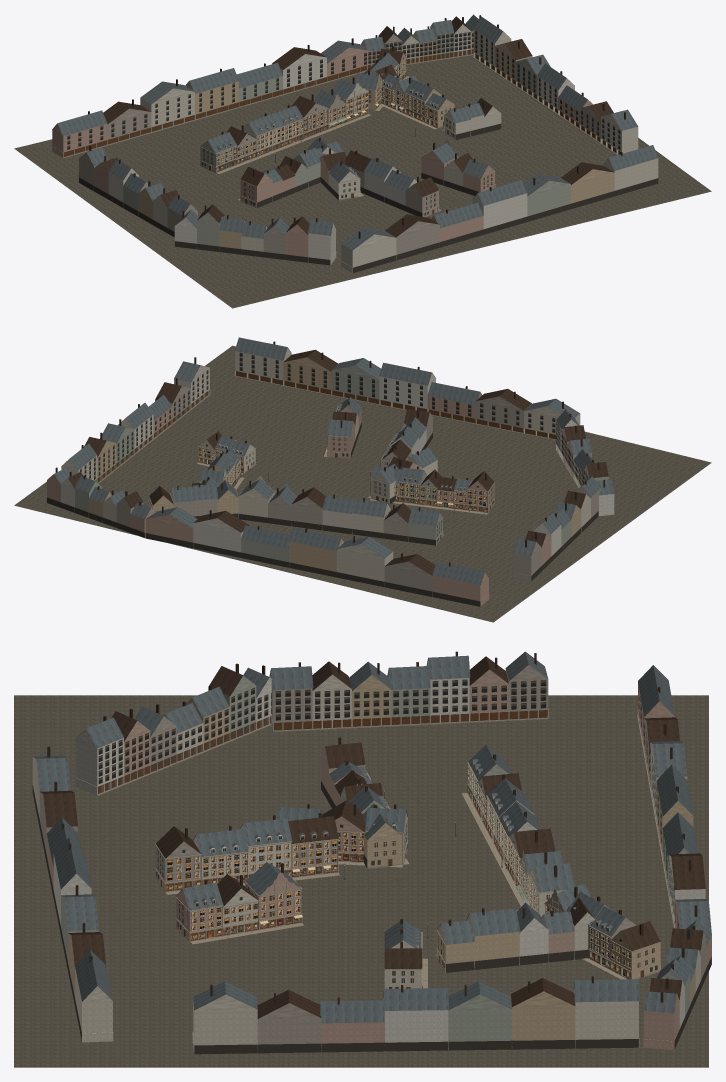
Rendered from platzring.glb.
3 renders of one model, top to bottom at view 1: azimuth 30°, elevation 25°; view 2: azimuth 150°, elevation 25°; view 3: azimuth 270°, elevation 25°, orthographic. The views are drawn at different scales.
Parts seen in each view (by area): view 1: Platzgrund • Pflaster, Sichtkulisse Süd, Sichtkulisse Nord, Sichtkulisse Ost, Sichtkulisse Südwest, Sichtkulisse West, Sichtkulisse Nordost, Rathausplatz 14, Rathausplatz 10, Kamp • Gegenfront 1, Rathausplatz 19, Rathausplatz 2 (+21 smaller); view 2: Platzgrund • Pflaster, Sichtkulisse Nord, Sichtkulisse Süd, Sichtkulisse Ost, Sichtkulisse West, Sichtkulisse Nordost, Sichtkulisse Südwest, Rathausplatz 10, Rathausplatz 2, Rathausplatz 6, Rathausplatz 14, Rathausplatz 8 (+18 smaller); view 3: Platzgrund • Pflaster, Sichtkulisse Ost, Sichtkulisse West, Sichtkulisse Südwest, Sichtkulisse Süd, Sichtkulisse Nord, Sichtkulisse Nordost, Kamp • Gegenfront 4, Kamp 3, Schildern 2 • Ehape, Anschluss Kaufhaus • Kamp, Kamp • Gegenfront 1 (+22 smaller).
Boxes of the visible parts, box(x1,y1,x2,y2) form: Platzgrund • Pflaster: box(14, 54, 711, 308); Sichtkulisse Süd: box(341, 145, 658, 273); Sichtkulisse Nord: box(52, 38, 371, 158); Sichtkulisse Ost: box(473, 17, 638, 155); Sichtkulisse Südwest: box(174, 204, 336, 265); Sichtkulisse West: box(79, 145, 197, 237); Sichtkulisse Nordost: box(361, 14, 481, 70); Rathausplatz 14: box(200, 131, 239, 174); Rathausplatz 10: box(240, 113, 283, 158); Kamp • Gegenfront 1: box(405, 176, 441, 217); Rathausplatz 19: box(238, 166, 272, 208); Rathausplatz 2: box(330, 77, 370, 123); Platzgrund • Pflaster: box(14, 345, 711, 622); Sichtkulisse Nord: box(145, 506, 489, 606); Sichtkulisse Süd: box(234, 337, 580, 440); Sichtkulisse Ost: box(61, 357, 210, 483); Sichtkulisse West: box(513, 476, 600, 581); Sichtkulisse Nordost: box(47, 467, 155, 537); Sichtkulisse Südwest: box(556, 409, 614, 516); Rathausplatz 10: box(351, 497, 390, 538); Rathausplatz 2: box(238, 476, 275, 522); Rathausplatz 6: box(291, 487, 325, 530); Rathausplatz 14: box(408, 507, 443, 545); Rathausplatz 8: box(322, 494, 354, 534); Platzgrund • Pflaster: box(14, 695, 708, 1067); Sichtkulisse Ost: box(192, 976, 639, 1054); Sichtkulisse West: box(269, 651, 548, 731); Sichtkulisse Südwest: box(75, 663, 271, 795); Sichtkulisse Süd: box(32, 746, 113, 1042); Sichtkulisse Nord: box(637, 665, 711, 964); Sichtkulisse Nordost: box(643, 920, 711, 1050); Kamp • Gegenfront 4: box(288, 812, 339, 880); Kamp 3: box(245, 862, 303, 932); Schildern 2 • Ehape: box(466, 908, 520, 969); Anschluss Kaufhaus • Kamp: box(175, 879, 225, 944); Kamp • Gegenfront 1: box(155, 826, 202, 894).
Size of the model in its own units: 285 by 23.77 by 226.
33 materials, 23 textured.
